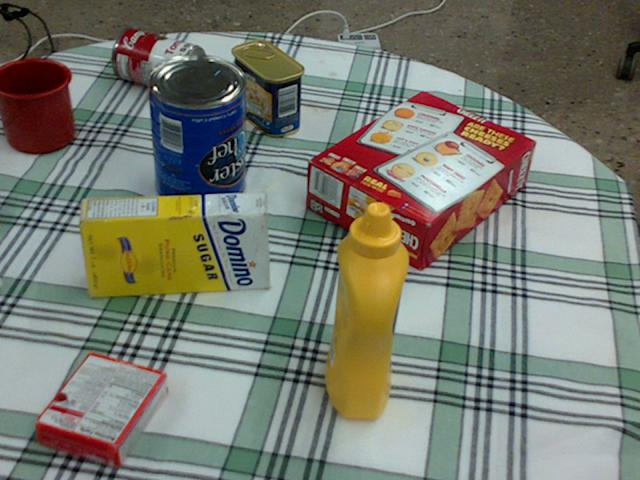cracker_box: (307, 91, 535, 270)
gelatin_box: (35, 351, 166, 466)
large_marker: (0, 278, 1, 286)
master_chef_can: (144, 55, 244, 214)
mug: (0, 57, 75, 151)
mustard_bottle: (325, 201, 408, 417)
potted_meat_can: (230, 41, 303, 136)
sugar_box: (77, 193, 268, 296)
tomato_soup_can: (112, 27, 205, 94)
